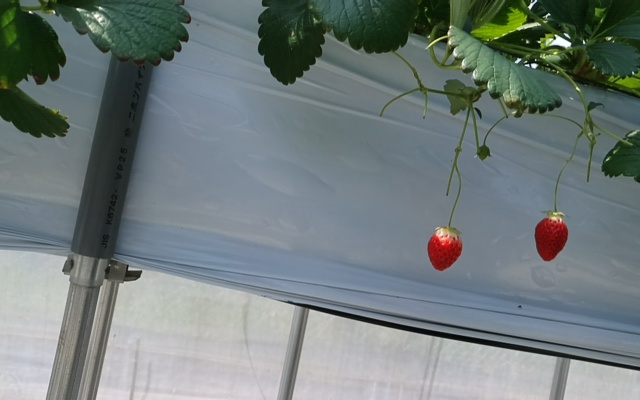MatureStrawberry: (533, 211, 571, 264), (425, 225, 463, 274)
